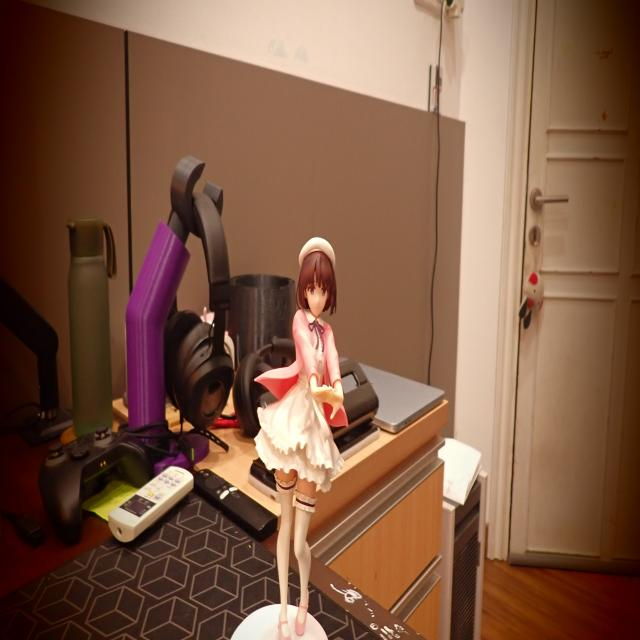My-pink-anime-figure: (256, 238, 347, 639)
